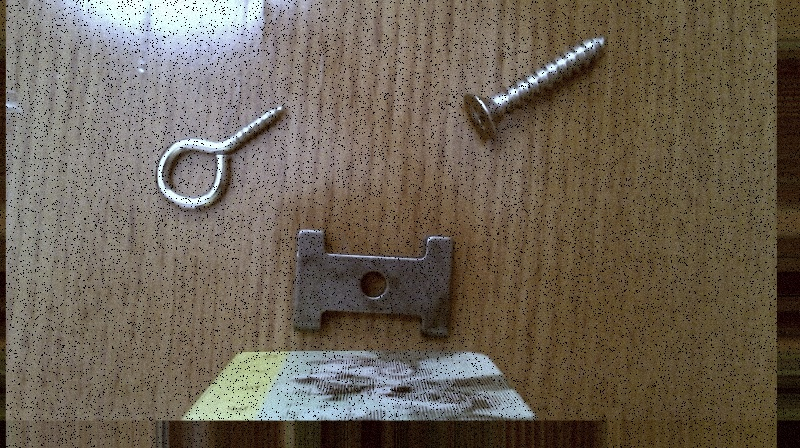O001: (152, 96, 290, 214)
O002: (287, 226, 457, 337)
S001: (456, 31, 615, 144)
